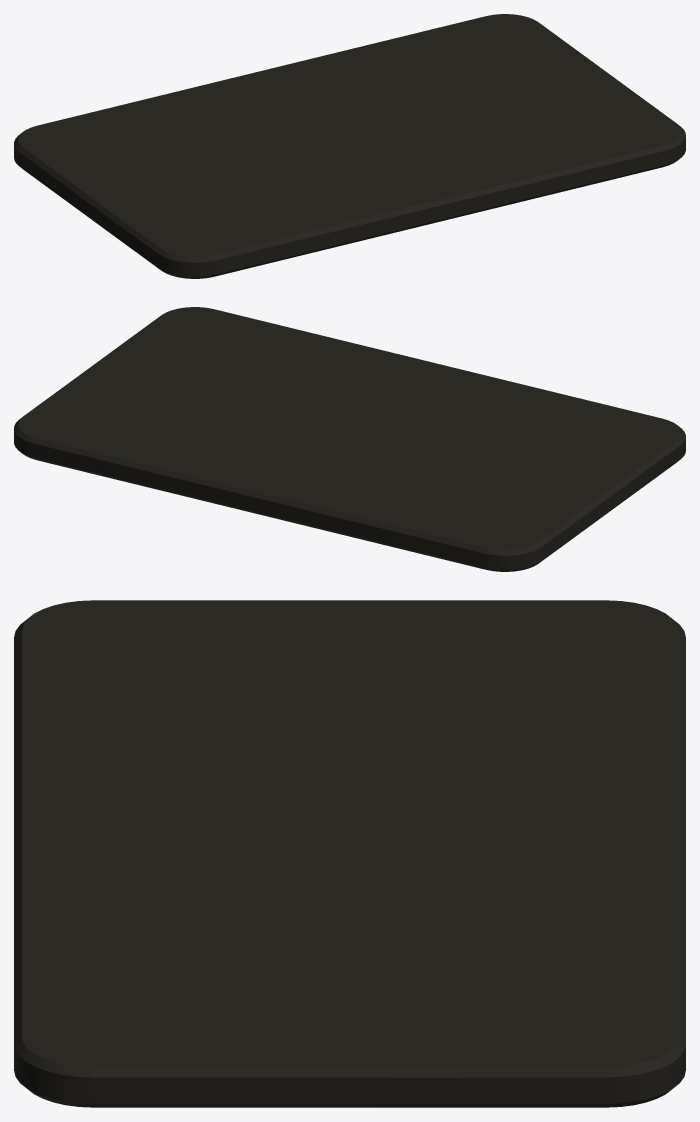
File: LineTracking.fbx
3 renders of one model, top to bottom at view 1: azimuth 30°, elevation 25°; view 2: azimuth 150°, elevation 25°; view 3: azimuth 270°, elevation 25°, orthographic. The views are drawn at different scales.
Visible parts, largest first — view 1: LineTracking; view 2: LineTracking; view 3: LineTracking.
Boxes of the visible parts, box(x1,y1,x2,y2) form: LineTracking: box(14, 14, 685, 278); LineTracking: box(14, 307, 685, 571); LineTracking: box(14, 600, 685, 1107).
Size of the model in its own units: 5 by 0.3 by 3.
